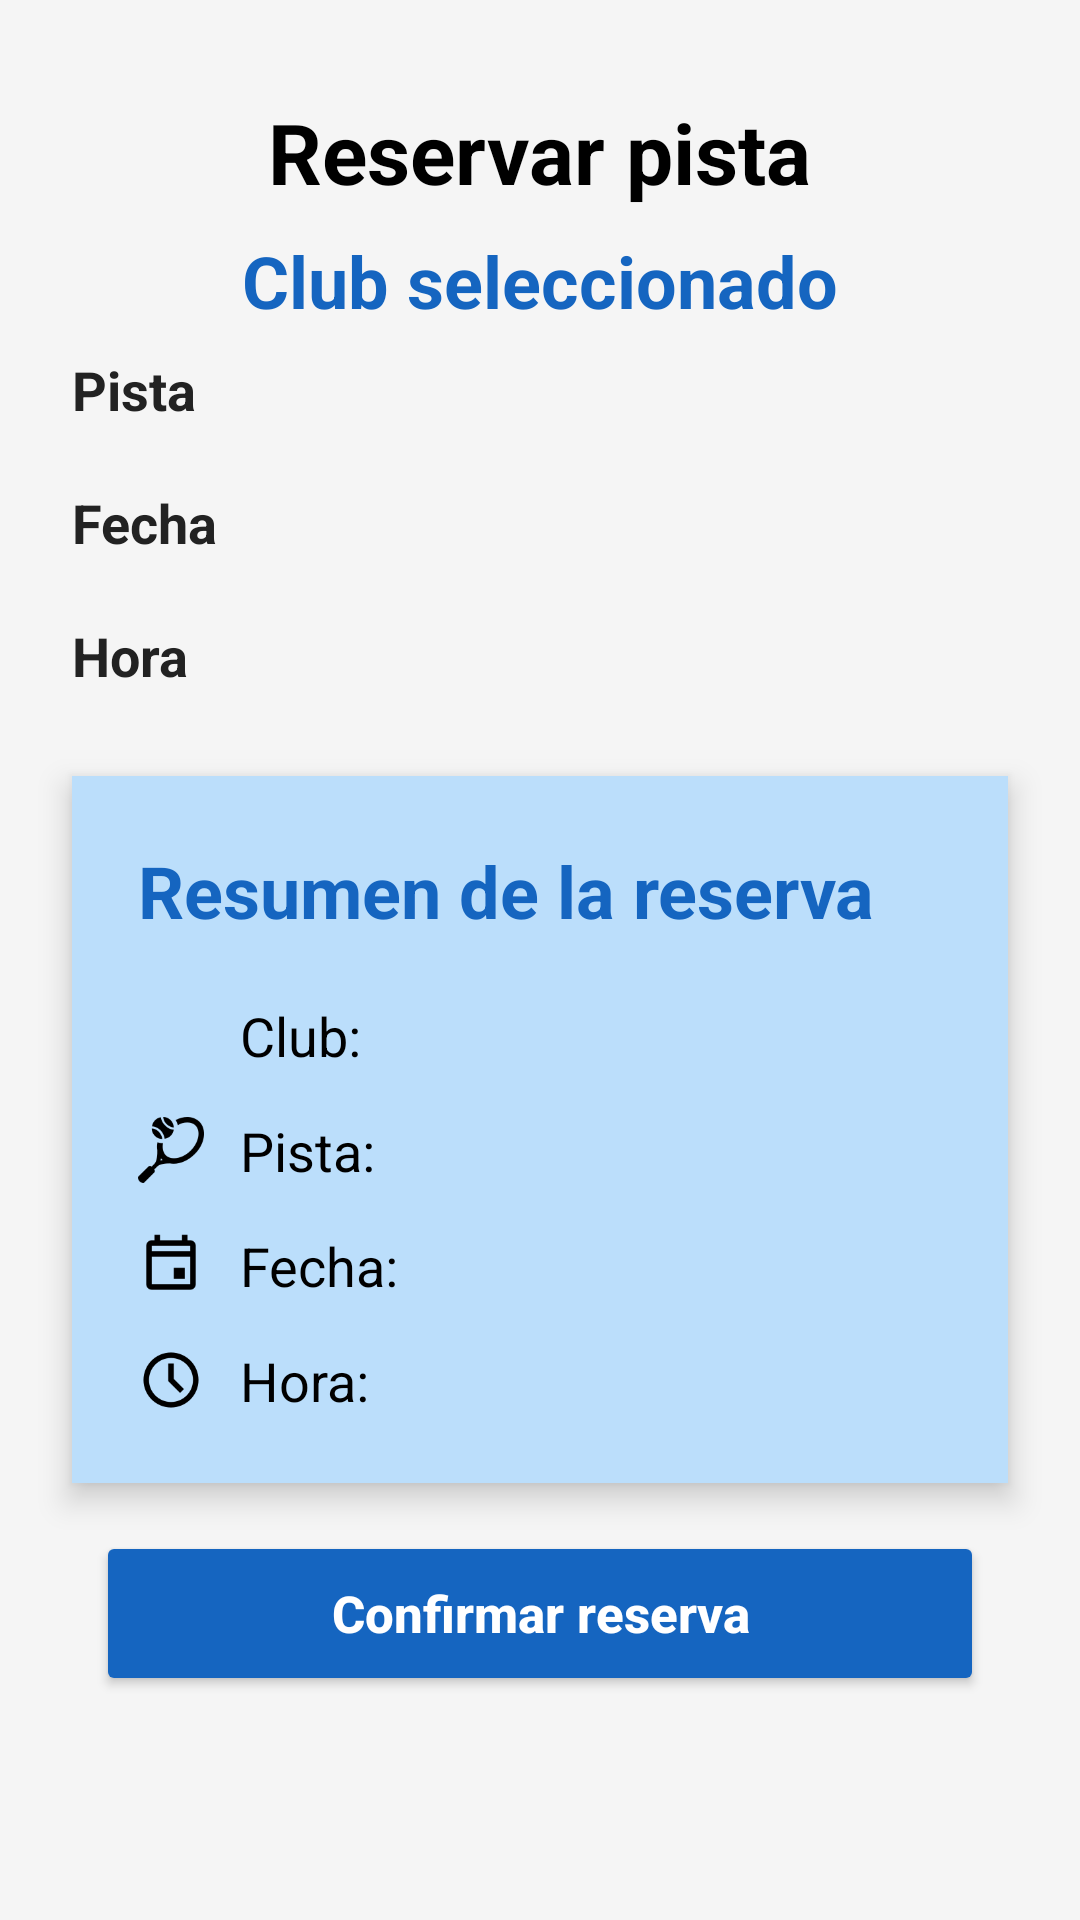

Point at icon controls on the screen. Image size 1080px x 1920px, points as (x,y).
raqueta tenis: (171,1150)
reloj: (171,1380)
reservas: (171,1262)
